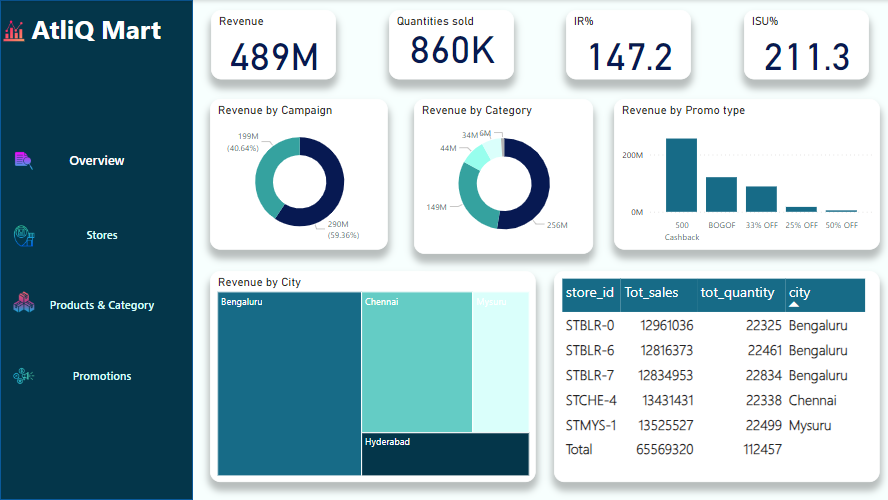

Layout of this report page (visuals, bound fields, positions):
{"tool":"powerbi","page":{"name":"Overview","canvas":[1280,720],"ordinal":0},"visuals":[{"type":"shape","box":[0,0,277.9,720],"z":0},{"type":"pageNavigator","box":[14.4,188.6,250.6,401.8],"z":1000},{"type":"card","title":"Revenue","fields":{"Values":["fact_events.Tot_sales"]},"box":[304,15.1,180,100],"z":2000},{"type":"card","title":"Quantities sold","fields":{"Values":["dim_campaigns.tot_quantity"]},"box":[559.6,15.1,180,100],"z":3000},{"type":"columnChart","title":"Revenue by Promo type","fields":{"Category":["fact_events.promo_type"],"Y":["fact_events.Tot_sales"]},"box":[884.2,142.6,383,217.4],"z":4000},{"type":"treemap","title":"Revenue by City","fields":{"Group":["dim_stores.city"],"Values":["fact_events.Tot_sales"]},"box":[302.4,389.7,468.7,304],"z":5000},{"type":"textbox","box":[0,11.8,277.2,84],"z":6000},{"type":"tableEx","fields":{"Values":["dim_stores.store_id","fact_events.Tot_sales","dim_campaigns.tot_quantity","dim_stores.city"]},"box":[797.9,389.7,468.7,304],"z":7000},{"type":"donutChart","title":"Revenue by Category","fields":{"Category":["dim_products (2).category"],"Y":["fact_events.Tot_sales"]},"box":[596.2,142.6,257.8,223.2],"z":8000},{"type":"donutChart","title":"Revenue by Campaign","fields":{"Y":["fact_events.Tot_sales"],"Category":["dim_campaigns.campaign_name"]},"box":[302.4,142.6,256.3,217.4],"z":9000},{"type":"card","title":"IR%","fields":{"Values":["dim_campaigns.IR%"]},"box":[815.1,15.1,180,100],"z":10000},{"type":"card","title":"ISU%","fields":{"Values":["dim_campaigns.ISU%"]},"box":[1070.7,15.1,180,100],"z":11000},{"type":"image","box":[14.4,521.3,40.3,40.3],"z":12000},{"type":"image","box":[14.4,414.7,40.3,40.3],"z":13000},{"type":"image","box":[14.4,319.7,40.3,40.3],"z":14000},{"type":"image","box":[14.4,211.7,40.3,40.3],"z":15000},{"type":"image","box":[34.6,24.5,40.3,40.3],"z":16000}]}

Visuals, with their boxes in screenshot pixels (x1, y1, x2, y2), scaled from the page's 1280x720 canvas onto the 888x500 screenshot:
shape: <box>0,0,193,499</box>
pageNavigator: <box>10,131,184,410</box>
"Revenue" card: <box>211,10,336,80</box>
"Quantities sold" card: <box>388,10,513,80</box>
"Revenue by Promo type" columnChart: <box>613,99,879,250</box>
"Revenue by City" treemap: <box>210,271,535,482</box>
textbox: <box>0,8,192,67</box>
tableEx - dim_stores.store_id x fact_events.Tot_sales: <box>554,271,879,482</box>
"Revenue by Category" donutChart: <box>414,99,592,254</box>
"Revenue by Campaign" donutChart: <box>210,99,388,250</box>
"IR%" card: <box>565,10,690,80</box>
"ISU%" card: <box>743,10,868,80</box>
image: <box>10,362,38,390</box>
image: <box>10,288,38,316</box>
image: <box>10,222,38,250</box>
image: <box>10,147,38,175</box>
image: <box>24,17,52,45</box>
